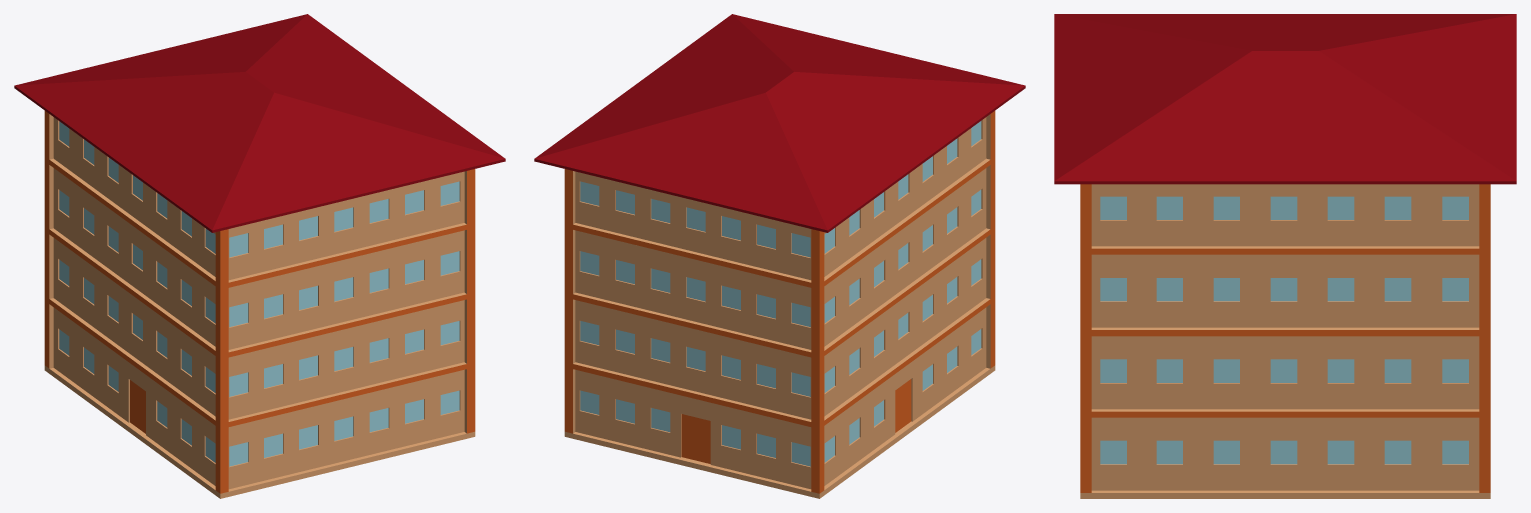
Rendered from 02home.fbx.
3 renders of one model, left to right at view 1: azimuth 30°, elevation 25°; view 2: azimuth 150°, elevation 25°; view 3: azimuth 270°, elevation 25°, orthographic. The views are drawn at different scales.
Visible parts, largest first — view 1: 02home; view 2: 02home; view 3: 02home.
Boxes of the visible parts, bbox=[...] form: 02home: bbox=[14, 14, 505, 498]; 02home: bbox=[534, 14, 1025, 498]; 02home: bbox=[1054, 14, 1516, 498].
Bounding box in the file's own units: 1190 × 1245 × 1390.
